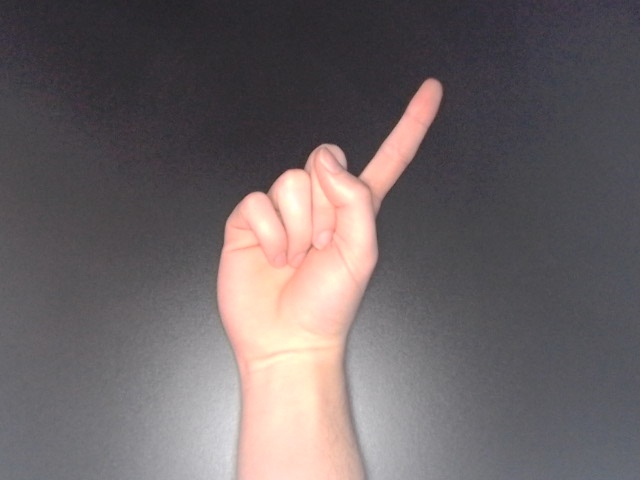z: (211, 74, 448, 383)
